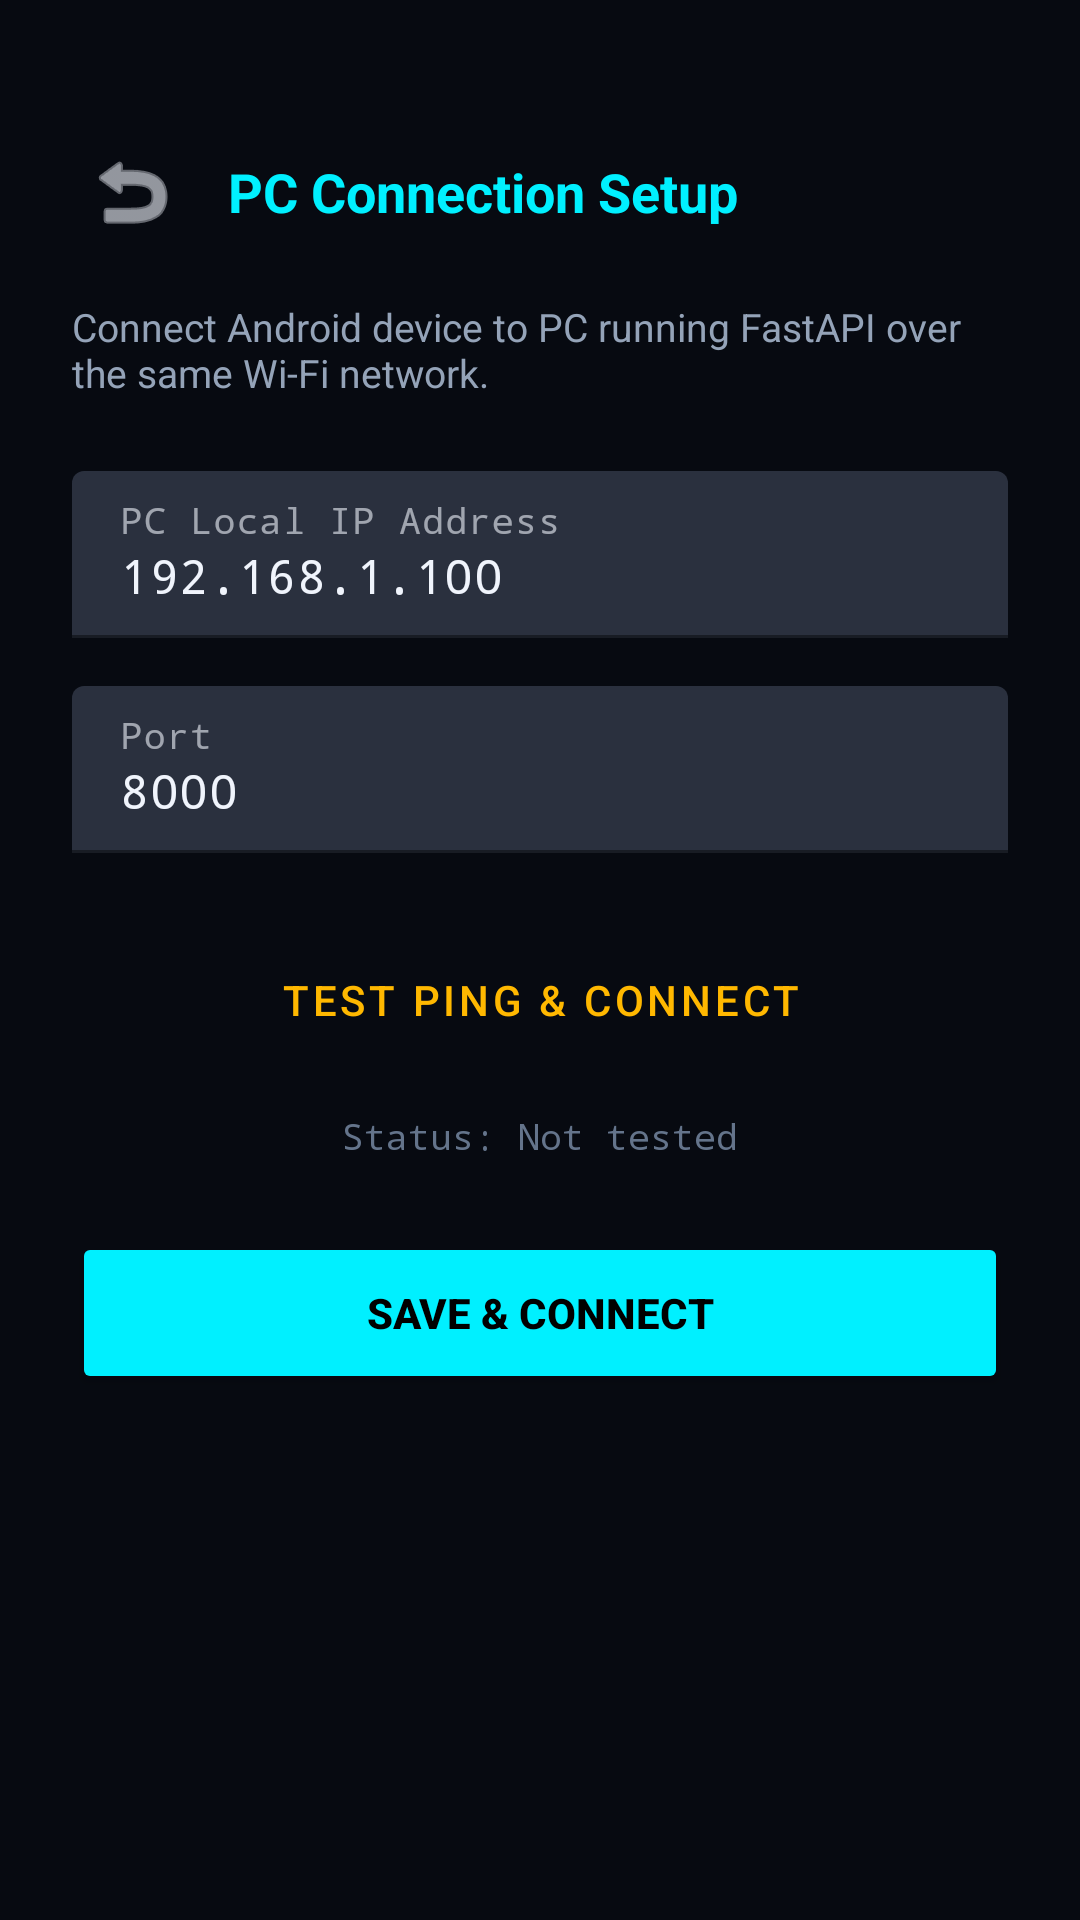

Locate icon controls on the screen. Image size 1080 × 1920, boxes as [x1, y1, x2, y2].
revert: [99, 161, 168, 224]
